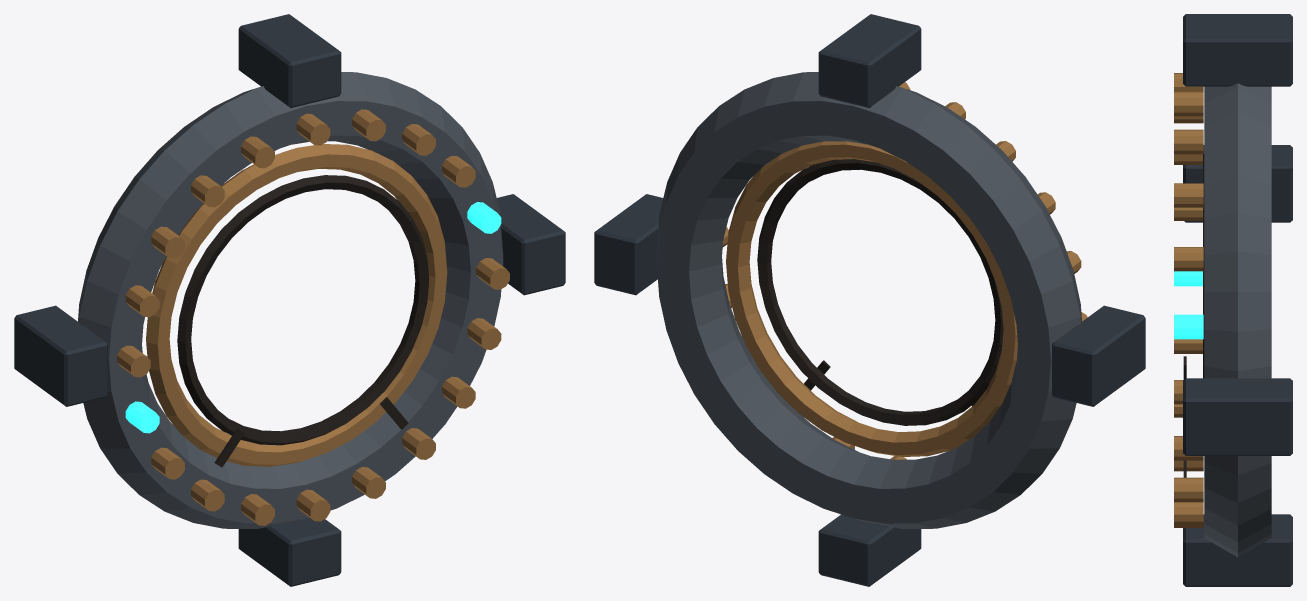
Rendered from runtime.glb.
The picture shows the model from 3 angles, left to right: view 1: azimuth 30°, elevation 25°; view 2: azimuth 150°, elevation 25°; view 3: azimuth 270°, elevation 25°; orthographic projection. The views are drawn at different scales.
Visible parts, largest first — view 1: kinetic-tide-bearing-flange-v04_plate_nocol, kinetic-tide-bearing-flange-v04_bronze_nocol, kinetic-tide-bearing-flange-v04_steel_nocol, kinetic-tide-bearing-flange-v04_weardark_nocol, kinetic-tide-bearing-flange-v04_cyansignal_nocol; view 2: kinetic-tide-bearing-flange-v04_plate_nocol, kinetic-tide-bearing-flange-v04_steel_nocol, kinetic-tide-bearing-flange-v04_bronze_nocol, kinetic-tide-bearing-flange-v04_weardark_nocol; view 3: kinetic-tide-bearing-flange-v04_plate_nocol, kinetic-tide-bearing-flange-v04_steel_nocol, kinetic-tide-bearing-flange-v04_bronze_nocol, kinetic-tide-bearing-flange-v04_cyansignal_nocol, kinetic-tide-bearing-flange-v04_weardark_nocol.
Part boxes in pixels (left/top/right/bottom): kinetic-tide-bearing-flange-v04_plate_nocol: left=78, top=72, right=503, bottom=528; kinetic-tide-bearing-flange-v04_bronze_nocol: left=117, top=109, right=509, bottom=525; kinetic-tide-bearing-flange-v04_steel_nocol: left=14, top=14, right=565, bottom=586; kinetic-tide-bearing-flange-v04_weardark_nocol: left=177, top=175, right=429, bottom=467; kinetic-tide-bearing-flange-v04_cyansignal_nocol: left=125, top=202, right=501, bottom=433; kinetic-tide-bearing-flange-v04_plate_nocol: left=656, top=72, right=1081, bottom=528; kinetic-tide-bearing-flange-v04_steel_nocol: left=594, top=14, right=1145, bottom=586; kinetic-tide-bearing-flange-v04_bronze_nocol: left=722, top=82, right=1087, bottom=459; kinetic-tide-bearing-flange-v04_weardark_nocol: left=757, top=159, right=1003, bottom=425; kinetic-tide-bearing-flange-v04_plate_nocol: left=1204, top=83, right=1271, bottom=557; kinetic-tide-bearing-flange-v04_steel_nocol: left=1183, top=14, right=1292, bottom=586; kinetic-tide-bearing-flange-v04_bronze_nocol: left=1174, top=73, right=1203, bottom=527; kinetic-tide-bearing-flange-v04_cyansignal_nocol: left=1174, top=271, right=1203, bottom=339; kinetic-tide-bearing-flange-v04_weardark_nocol: left=1183, top=154, right=1204, bottom=477.
Size of the model in its own units: 7.29 by 7.29 by 1.43.
